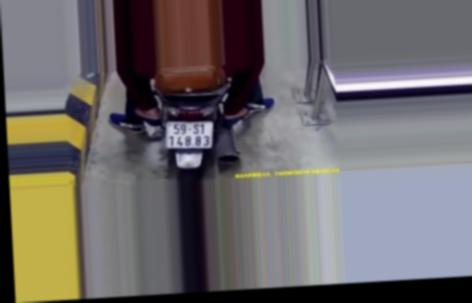License_Plate: (161, 117, 219, 156)
